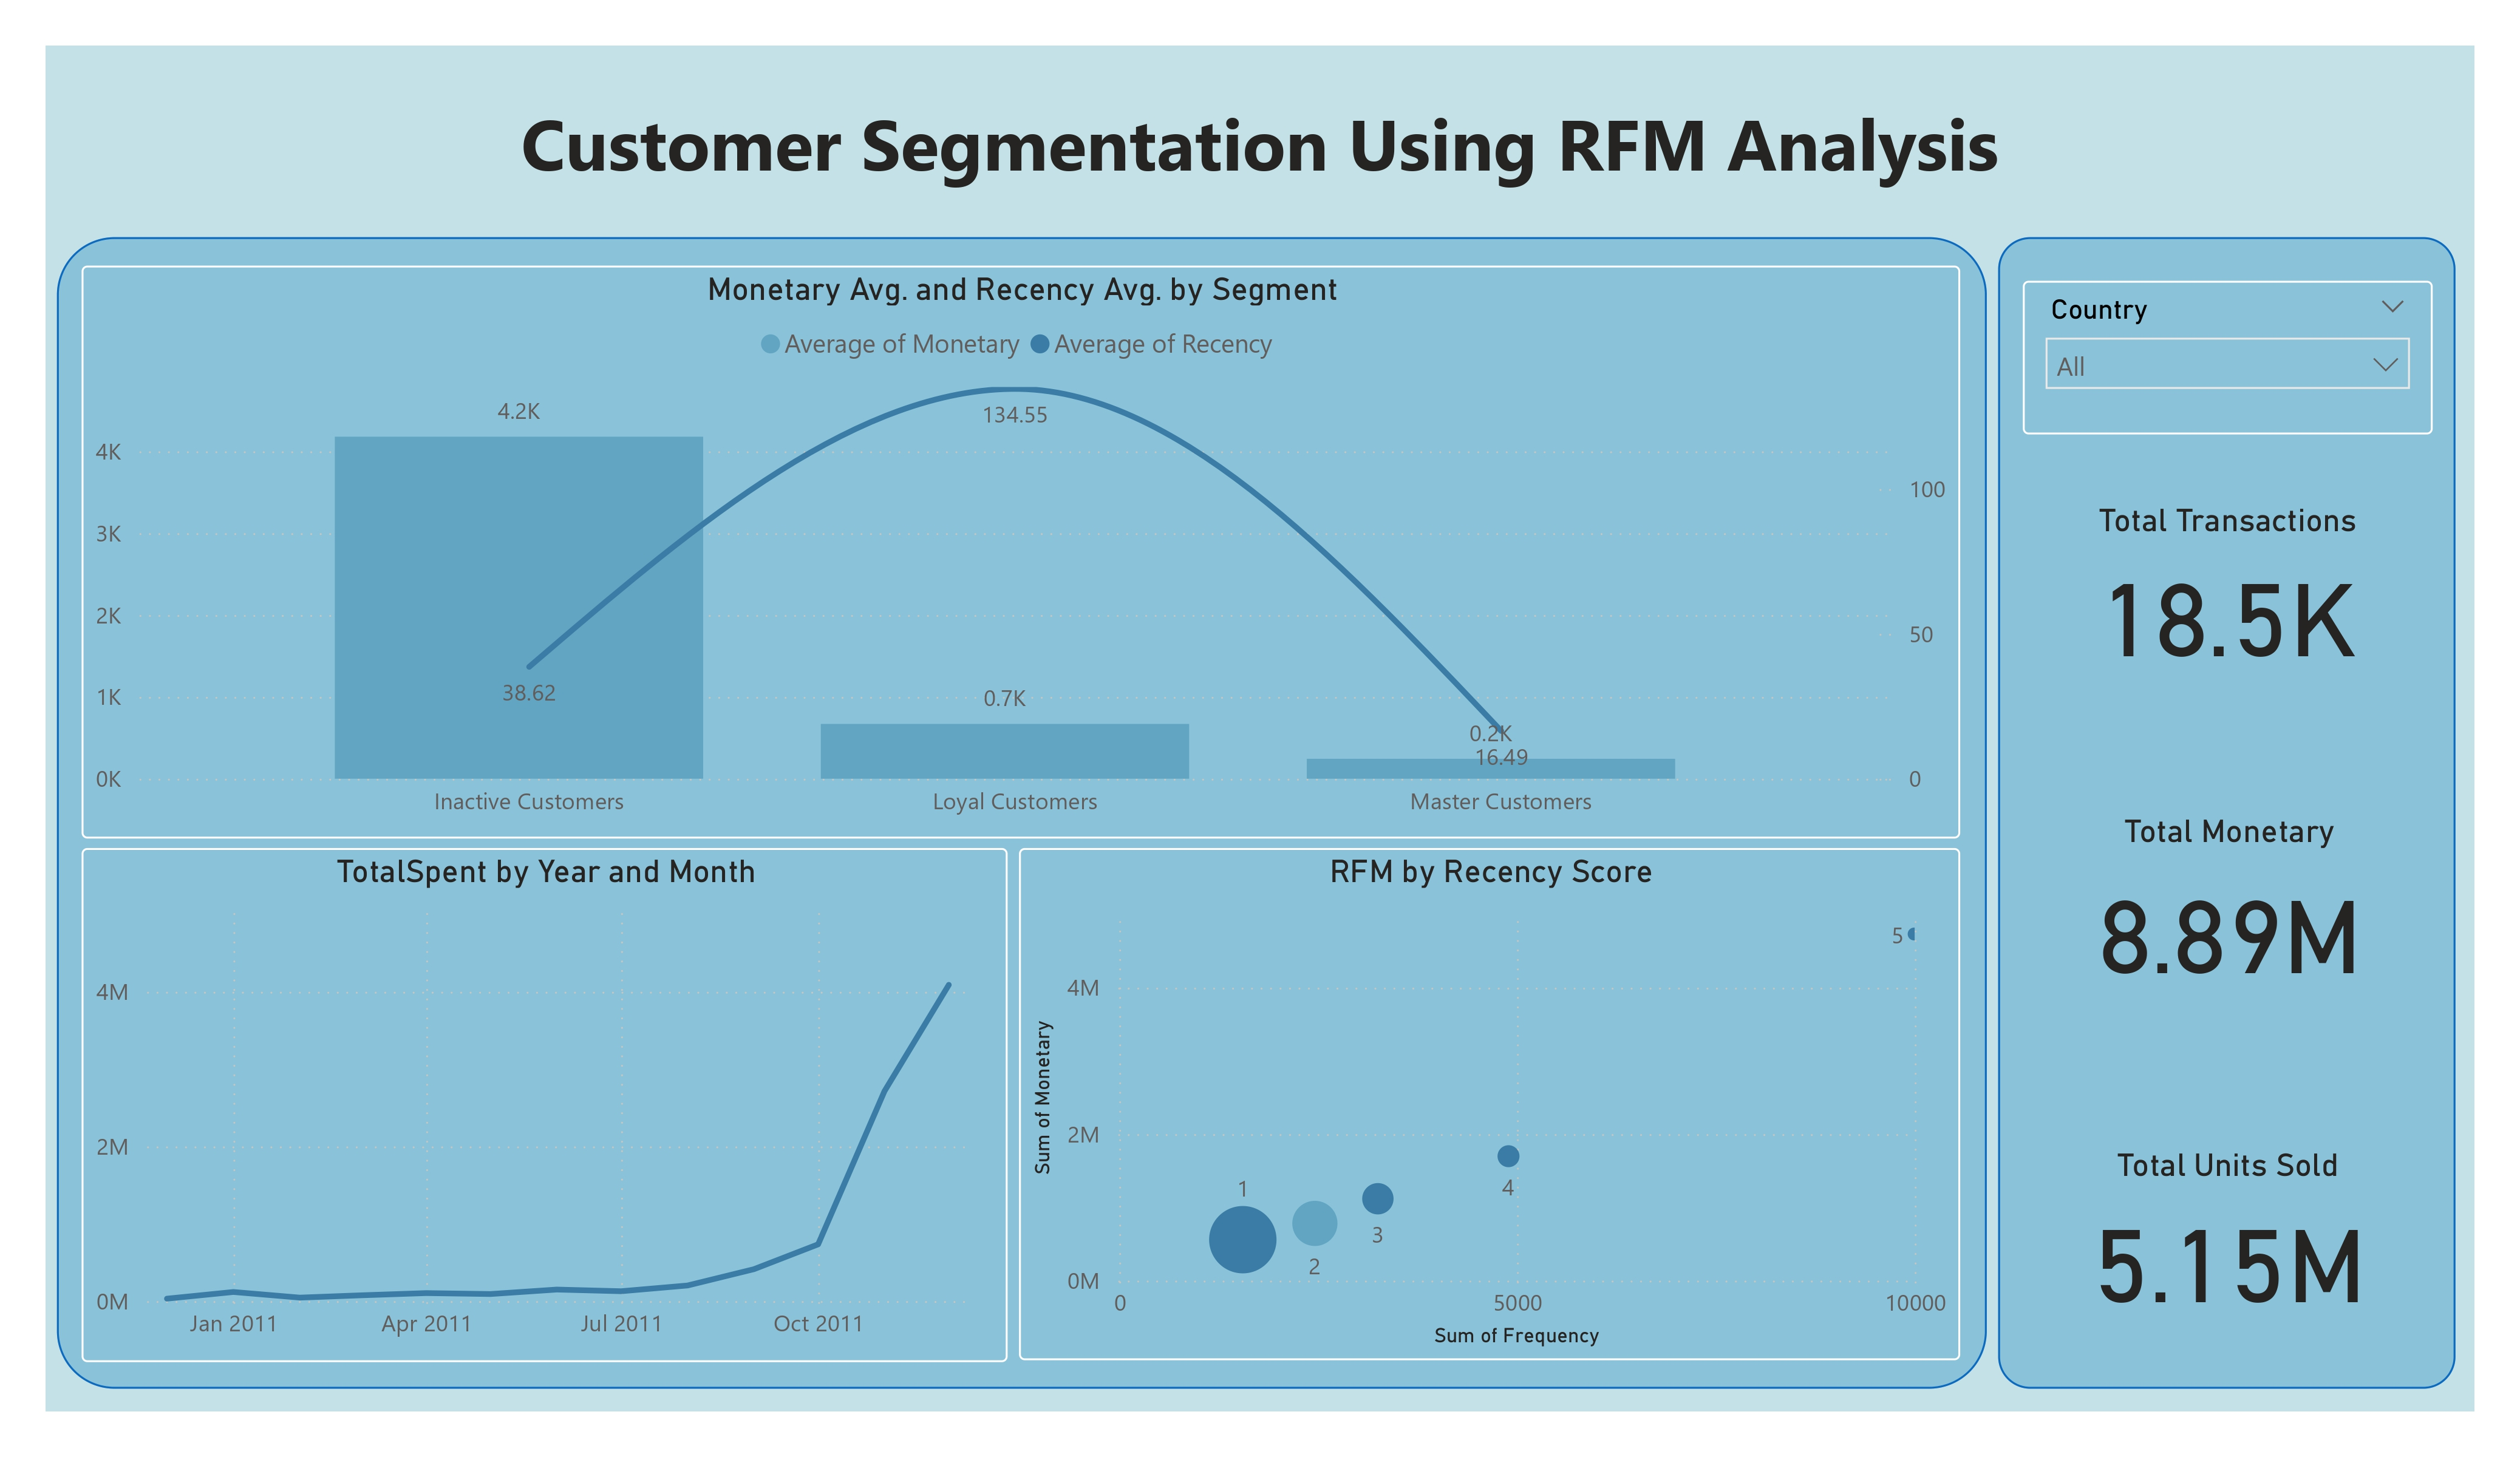

The dashboard page shown, as its layout file describes it:
{"tool":"powerbi","page":{"name":"Page 1","canvas":[1280,720],"ordinal":0},"visuals":[{"type":"textbox","box":[0,20.5,1280,60.3],"z":0},{"type":"shape","box":[5.9,101.5,1017,606.8],"z":1,"group":"g3"},{"type":"lineChart","title":"TotalSpent by Year and Month","fields":{"Y":["Sum(Sheet1.TotalSpent)"],"Category":["rfm_data.InvoiceDate.Variation.Date Hierarchy.Year","rfm_data.InvoiceDate.Variation.Date Hierarchy.Month"]},"box":[18.8,423.2,487.8,271.2],"z":502,"group":"g3"},{"type":"group","id":"g1","title":"Group 3","box":[5.9,101.5,1017,606.8],"z":1000},{"type":"group","id":"g2","title":"Group 4","box":[1029.1,101.3,241.3,606.8],"z":2000,"group":"g5"},{"type":"group","id":"g3","title":"Group 1","box":[5.9,101.5,1017,606.8],"z":2000,"group":"g4"},{"type":"group","id":"g4","title":"Group 2","box":[5.9,101.5,1017,606.8],"z":2001,"group":"g1"},{"type":"shape","box":[1029.1,101.3,241.3,606.8],"z":2004,"group":"g2"},{"type":"lineClusteredColumnComboChart","title":"Monetary Avg. and Recency Avg. by Segment","fields":{"Y2":["Avg(rfm_data.Recency)"],"Y":["Avg(rfm_data.Monetary)"],"Category":["rfm_data.Segment"]},"box":[18.8,116.6,989.9,301.5],"z":2500,"group":"g4"},{"type":"scatterChart","title":"RFM by Recency Score","fields":{"Y":["Sum(rfm_data.Monetary)"],"X":["Sum(rfm_data.Frequency)"],"Series":["rfm_data.recency_score"],"Size":["Sum(rfm_data.Recency)"]},"box":[512.6,423.6,495.8,270.2],"z":2502,"group":"g1"},{"type":"group","id":"g5","title":"Group 5","box":[1029.1,101.3,241.3,606.8],"z":3001,"group":"g6"},{"type":"group","id":"g6","title":"Group 6","box":[1029.1,101.3,242.5,606.8],"z":3003,"group":"g7"},{"type":"group","id":"g7","title":"Group 7","box":[1029.1,101.3,242.5,606.8],"z":3005},{"type":"card","title":"Total Transactions","fields":{"Values":["Count(Sheet1.InvoiceNo)"]},"box":[1031.4,240.2,237.7,93.4],"z":3005,"group":"g2"},{"type":"slicer","fields":{"Values":["Sheet1.Country"]},"box":[1042.3,124.2,216,80.7],"z":3500,"group":"g5"},{"type":"card","title":"Total Monetary","fields":{"Values":["Sum(rfm_data.Monetary)"]},"box":[1031.5,404.1,240.1,98.9],"z":3502,"group":"g6"},{"type":"card","title":"Total Units Sold","fields":{"Values":["Sum(Sheet1.Quantity)"]},"box":[1031.5,580.7,237.7,93.4],"z":3504,"group":"g7"}]}

Visuals, with their boxes in screenshot pixels (x1, y1, x2, y2):
textbox: (0,2,2485,123)
shape: (0,165,1967,1386)
"TotalSpent by Year and Month" lineChart: (0,812,928,1358)
"Group 3" group: (0,165,1967,1386)
"Group 4" group: (1980,165,2465,1385)
"Group 1" group: (0,165,1967,1386)
"Group 2" group: (0,165,1967,1386)
shape: (1980,165,2465,1385)
"Monetary Avg. and Recency Avg. by Segment" lineClusteredColumnComboChart: (0,195,1938,802)
"RFM by Recency Score" scatterChart: (940,813,1938,1357)
"Group 5" group: (1980,165,2465,1385)
"Group 6" group: (1980,165,2468,1385)
"Group 7" group: (1980,165,2468,1385)
"Total Transactions" card: (1984,444,2463,632)
slicer - Sheet1.Country: (2006,211,2441,373)
"Total Monetary" card: (1984,774,2468,973)
"Total Units Sold" card: (1984,1129,2463,1317)
